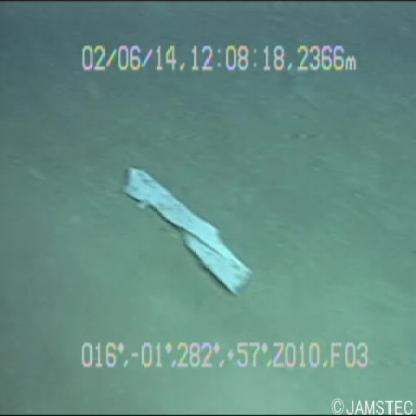Rác: (109, 154, 266, 302)
